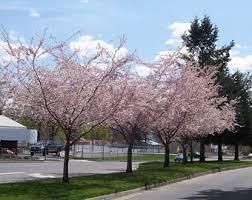tree: (7, 32, 131, 182), (127, 53, 206, 168), (91, 60, 164, 176)
